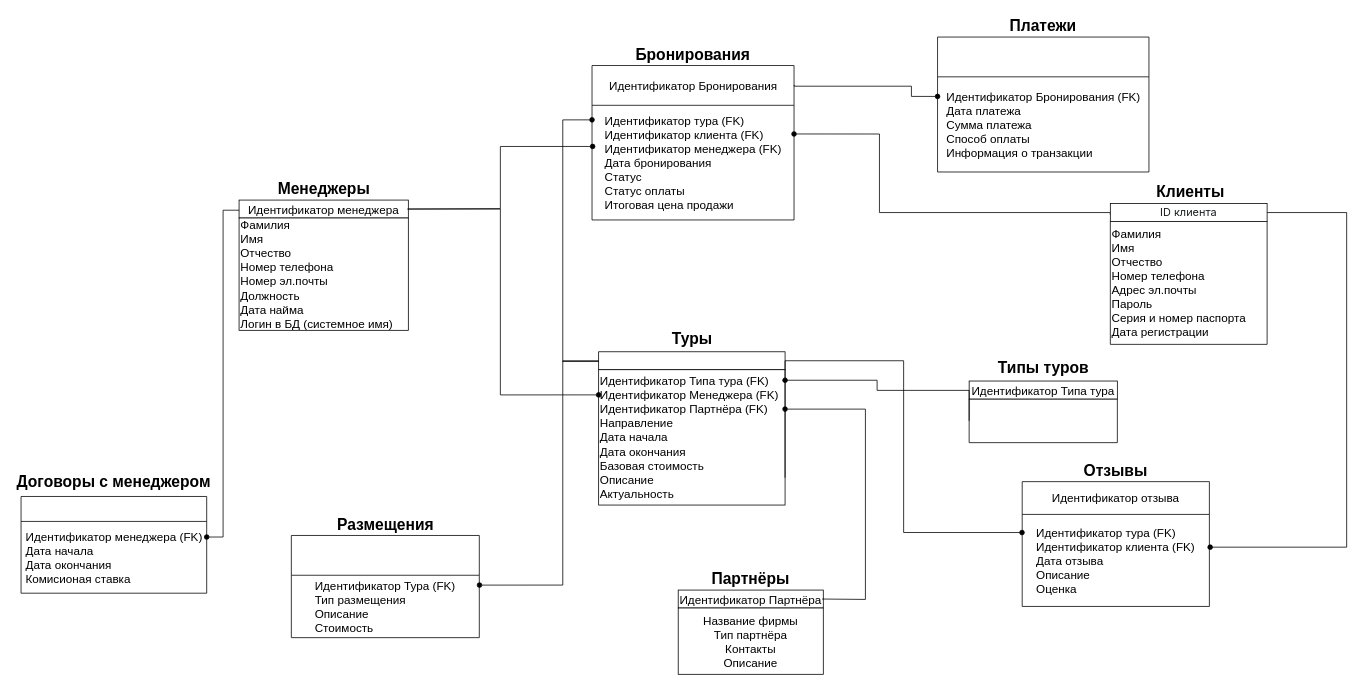
Some shapes in this 1367 by 688 pixel diagram are drawn without their labels. The box of each missing label's shape, as (x1, y1, x2, y2) in pixels:
Идентификатор контракта: (20, 496, 207, 593)
Идентификатор Платежа: (937, 36, 1149, 172)
Идентификатор размещение: (291, 535, 479, 638)
Идентификатор Тура: (598, 351, 785, 370)
Название типа тура Описание: (968, 398, 1117, 443)
